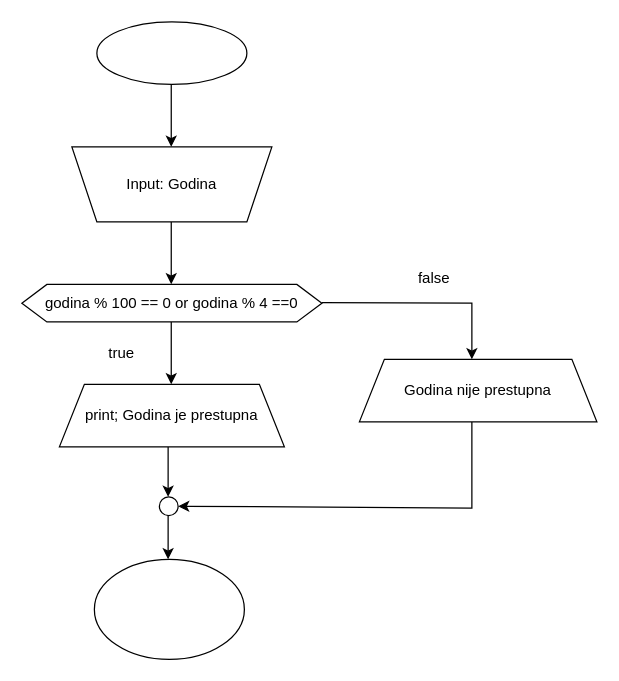
The diagram is 619 pixels wide and 681 high, and some of its shapes have lost their labels. The shapes that lost their labels are listed below. From the top down, each one's centre as x and y in pixels, then its label:
At [171,52]: "START".
At [168,608]: "END".
